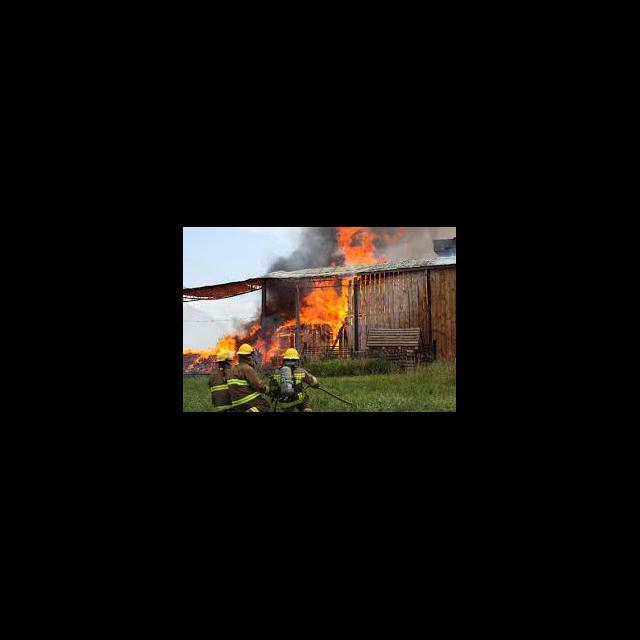Fire: (334, 228, 400, 264), (298, 282, 349, 324), (185, 336, 236, 356), (256, 336, 280, 366), (330, 325, 340, 349), (277, 318, 297, 330), (245, 322, 262, 334)
Smoke: (266, 230, 334, 272), (264, 280, 297, 316), (402, 228, 432, 260), (434, 228, 456, 240)
